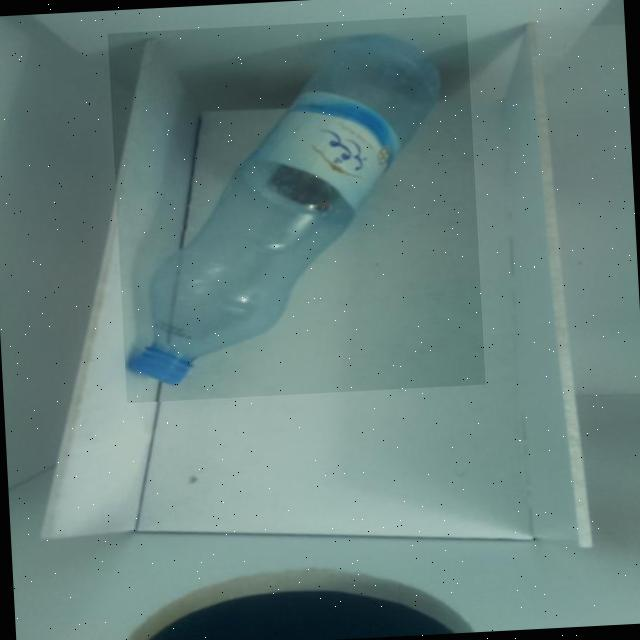bottle: (108, 15, 487, 403)
cap: (128, 342, 192, 394)
label: (241, 95, 400, 219)
